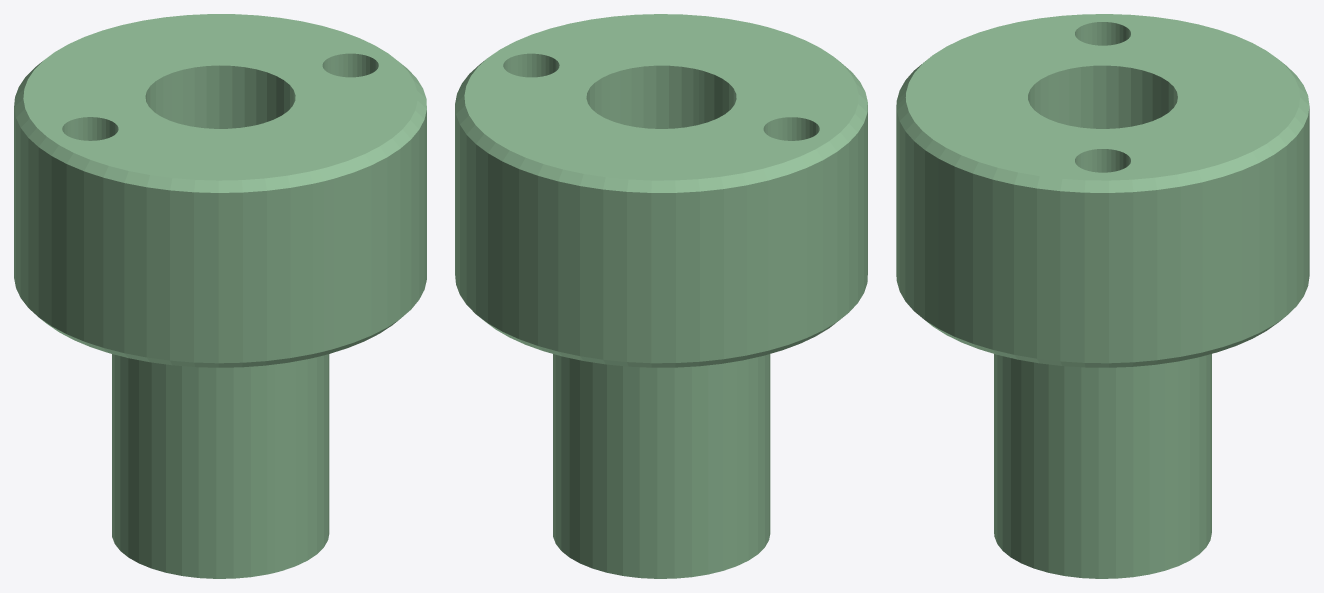
The model's file is case-04_lib00004.glb.
3 renders of one model, left to right at view 1: azimuth 30°, elevation 25°; view 2: azimuth 150°, elevation 25°; view 3: azimuth 270°, elevation 25°, orthographic.
Visible parts, largest first — view 1: lib00004; view 2: lib00004; view 3: lib00004.
Part boxes in pixels (x1,y1,x2,y2): lib00004: [14, 14, 426, 578]; lib00004: [455, 14, 867, 578]; lib00004: [896, 14, 1309, 578].
Bounding box in the file's own units: 11 × 12.8 × 11.
